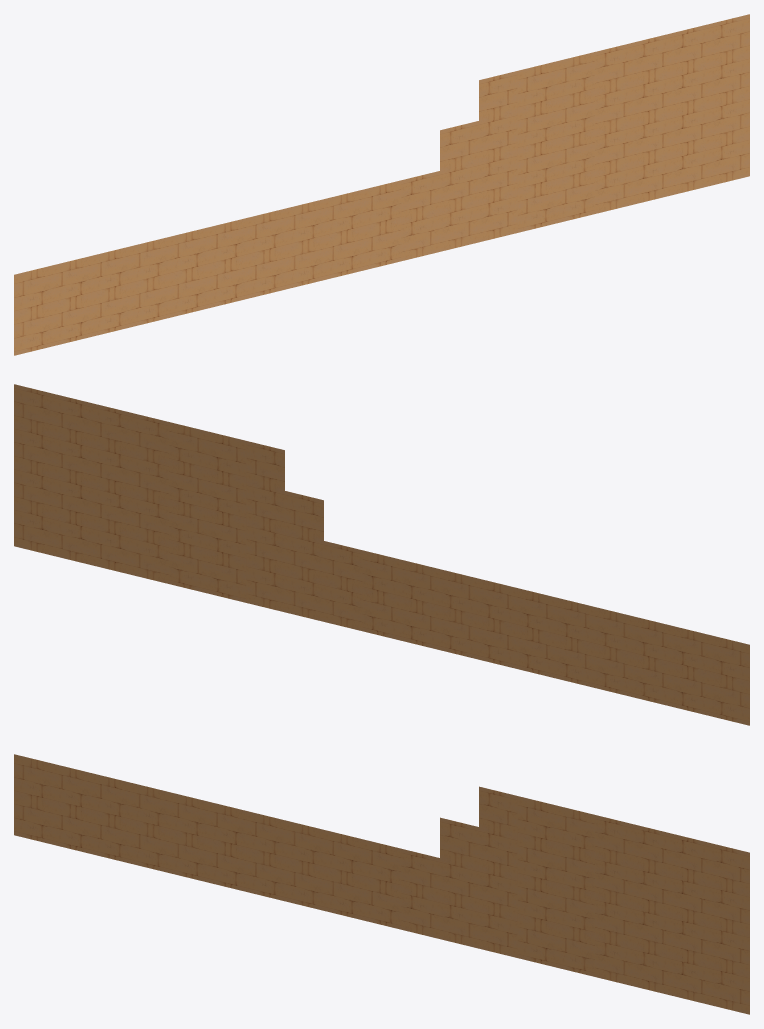
The model's file is Walls.fbx.
3 renders of one model, top to bottom at view 1: azimuth 30°, elevation 25°; view 2: azimuth 150°, elevation 25°; view 3: azimuth 330°, elevation 25°, orthographic.
Visible parts, largest first — view 1: Wall_4x4, Wall_6x2, Wall_4x2, Wall_2x4, Wall_2x2, Wall_1x4, Wall_1x1; view 2: Wall_4x4, Wall_6x2, Wall_4x2, Wall_2x4, Wall_2x2, Wall_1x4, Wall_1x1; view 3: Wall_4x4, Wall_6x2, Wall_4x2, Wall_2x4, Wall_2x2, Wall_1x4, Wall_1x1.
Boxes of the visible parts, x1,y1,x2,y2 form: Wall_4x4: (595, 14, 749, 213); Wall_6x2: (14, 218, 246, 355); Wall_4x2: (246, 180, 401, 298); Wall_2x4: (517, 52, 594, 232); Wall_2x2: (401, 161, 478, 261); Wall_1x4: (479, 71, 517, 242); Wall_1x1: (440, 121, 478, 170); Wall_4x4: (14, 384, 168, 583); Wall_6x2: (517, 588, 749, 725); Wall_4x2: (362, 550, 517, 668); Wall_2x4: (169, 422, 246, 602); Wall_2x2: (285, 531, 362, 631); Wall_1x4: (246, 441, 284, 612); Wall_1x1: (285, 491, 323, 540); Wall_4x4: (595, 815, 749, 1014); Wall_6x2: (14, 754, 246, 891); Wall_4x2: (246, 811, 401, 929); Wall_2x4: (517, 796, 594, 976); Wall_2x2: (401, 848, 478, 948); Wall_1x4: (479, 786, 517, 957); Wall_1x1: (440, 817, 478, 867).
Size of the model in its own units: 1900 by 400 by 0.000272.
